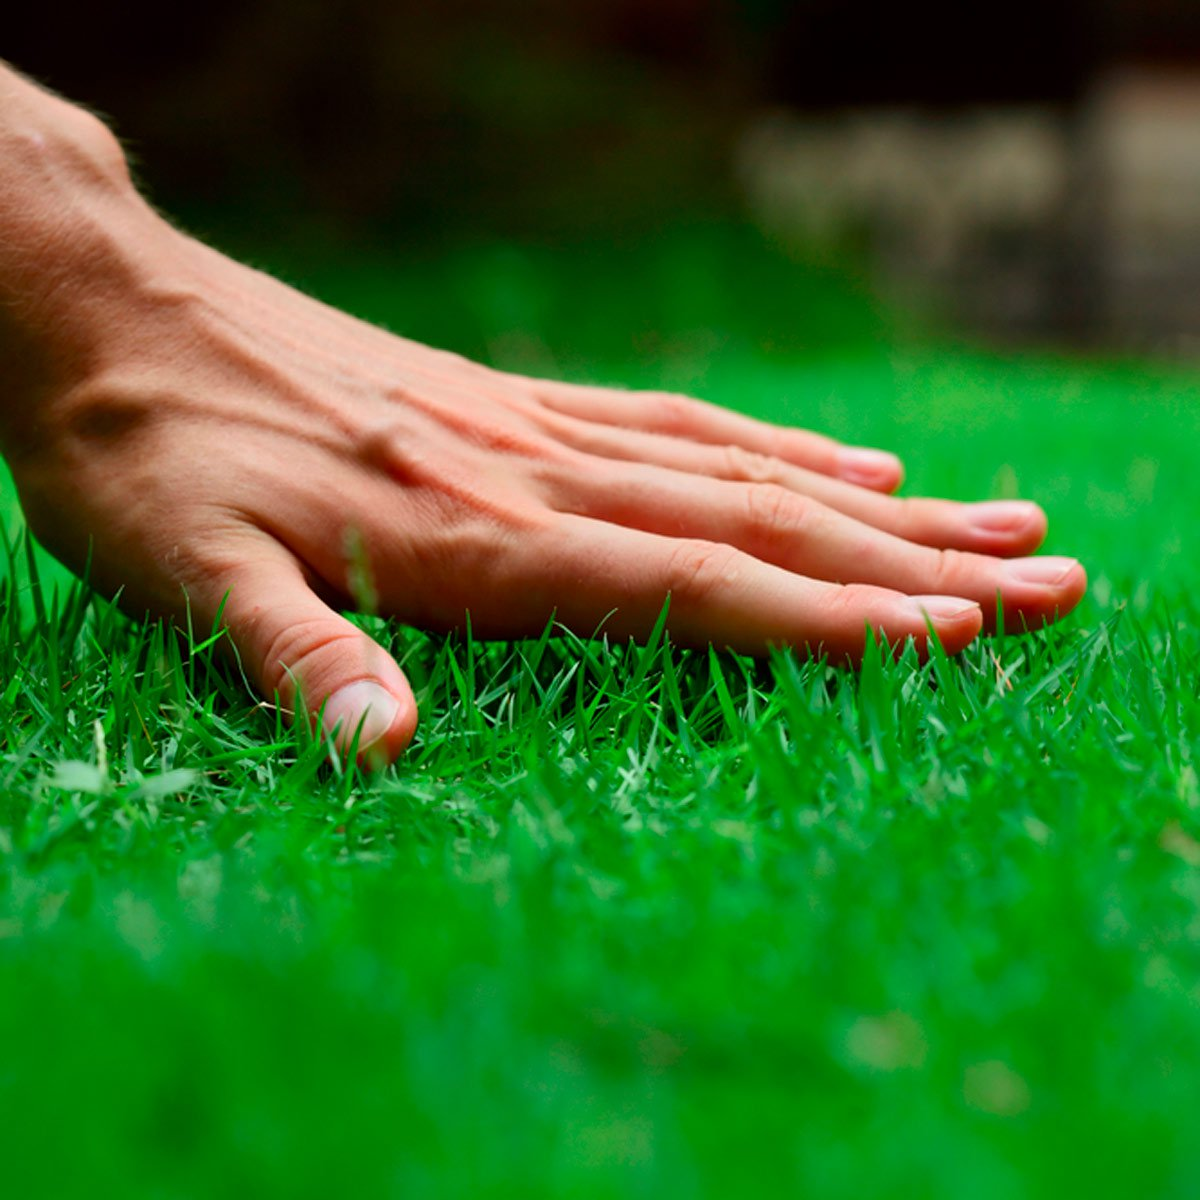crabgrass: (410, 620, 889, 796), (41, 589, 243, 770)
